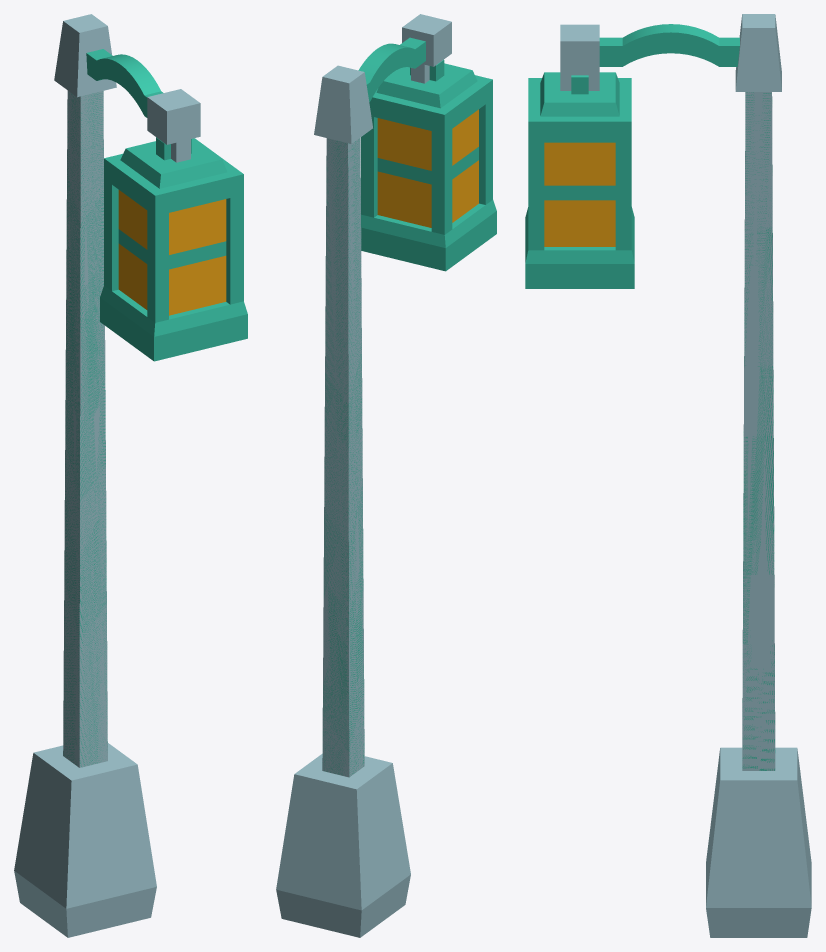
File: lightpostSingle.dae
3 views of the same model, side by side, from view 1: azimuth 30°, elevation 25°; view 2: azimuth 150°, elevation 25°; view 3: azimuth 270°, elevation 25° (orthographic). The views are drawn at different scales.
Parts seen in each view (by area): view 1: lightpostSingle; view 2: lightpostSingle; view 3: lightpostSingle.
Part boxes in pixels (x1,y1,x2,y2): lightpostSingle: [14, 14, 247, 937]; lightpostSingle: [276, 14, 496, 937]; lightpostSingle: [525, 14, 811, 937].
Size of the model in its own units: 0.1459 by 1.32 by 0.3818.
